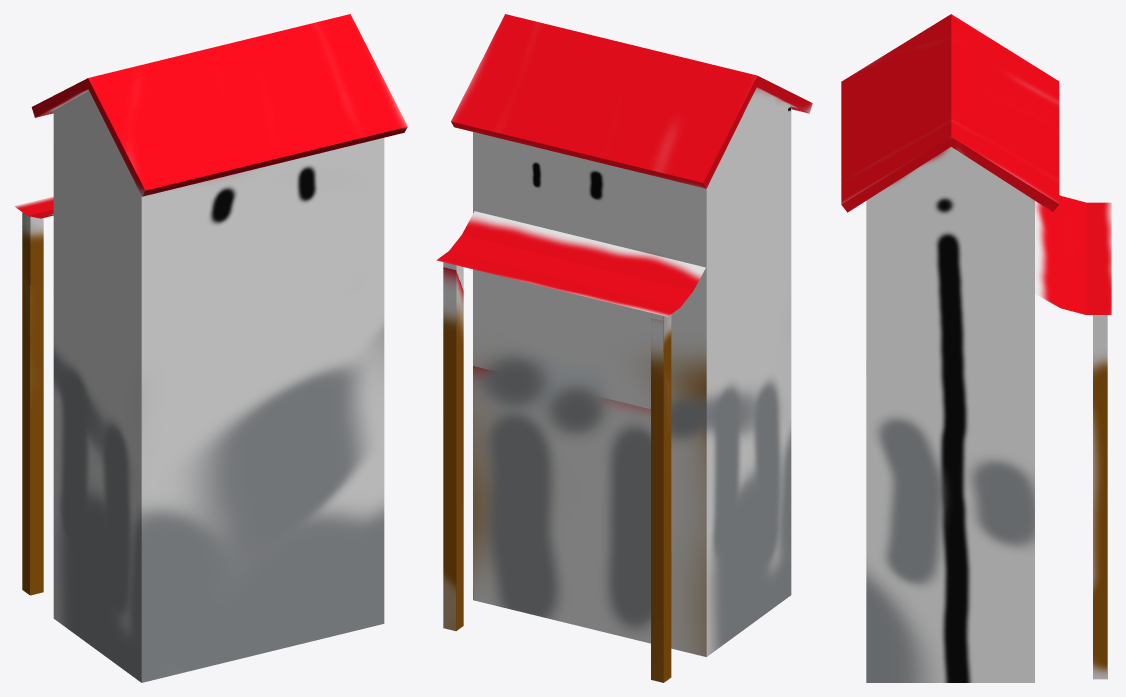
Rendered from farmhouse.fbx.
The picture shows the model from 3 angles, left to right: view 1: azimuth 30°, elevation 25°; view 2: azimuth 150°, elevation 25°; view 3: azimuth 270°, elevation 25°; orthographic projection. The views are drawn at different scales.
Visible parts, largest first — view 1: Cube; view 2: Cube; view 3: Cube.
Boxes of the visible parts, x1,y1,x2,y2 form: Cube: (14, 14, 407, 682); Cube: (436, 14, 812, 682); Cube: (841, 14, 1111, 682).
Size of the model in its own units: 3.44 by 7.22 by 3.21.
Materials: 1 (1 with a texture image).
